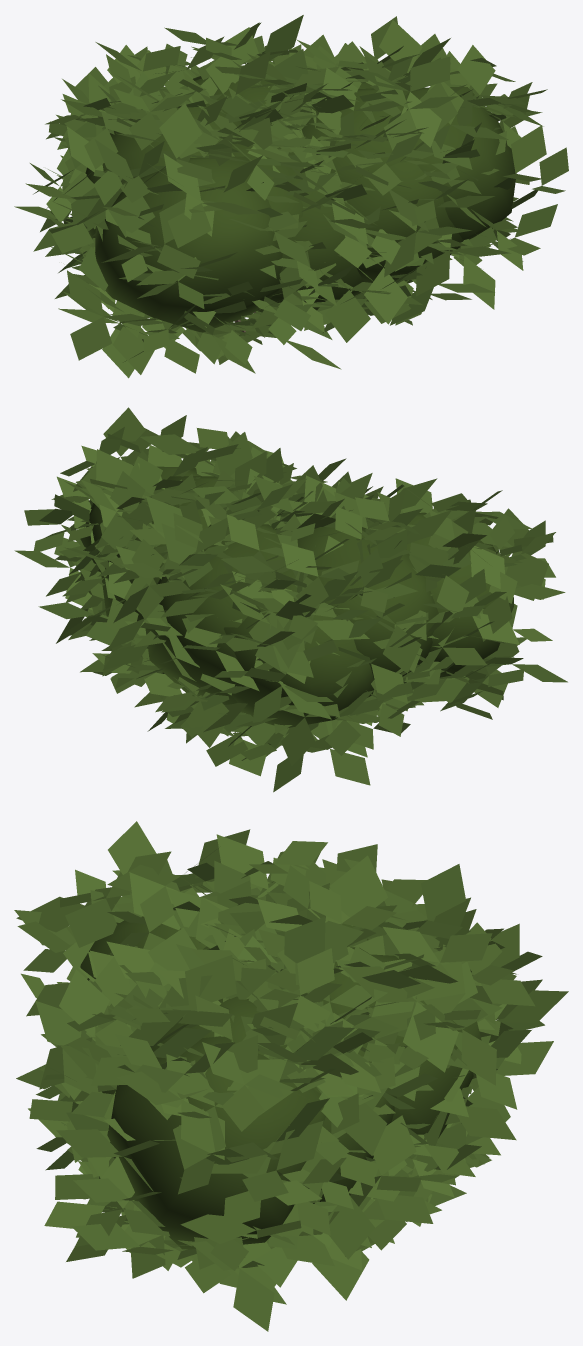
The model's file is park_shrub.glb.
3 views of the same model, one above another, from view 1: azimuth 30°, elevation 25°; view 2: azimuth 150°, elevation 25°; view 3: azimuth 270°, elevation 25° (orthographic). The views are drawn at different scales.
Visible parts, largest first — view 1: Foliage.002, Foliage_Core.002; view 2: Foliage.002, Foliage_Core.002; view 3: Foliage.002, Foliage_Core.002.
Boxes of the visible parts, x1,y1,x2,y2 form: Foliage.002: (14, 15, 568, 378); Foliage_Core.002: (85, 73, 516, 332); Foliage.002: (14, 407, 567, 792); Foliage_Core.002: (80, 465, 513, 728); Foliage.002: (14, 821, 568, 1331); Foliage_Core.002: (80, 903, 481, 1249).
Bounding box in the file's own units: 2.3 × 1.19 × 1.74.
